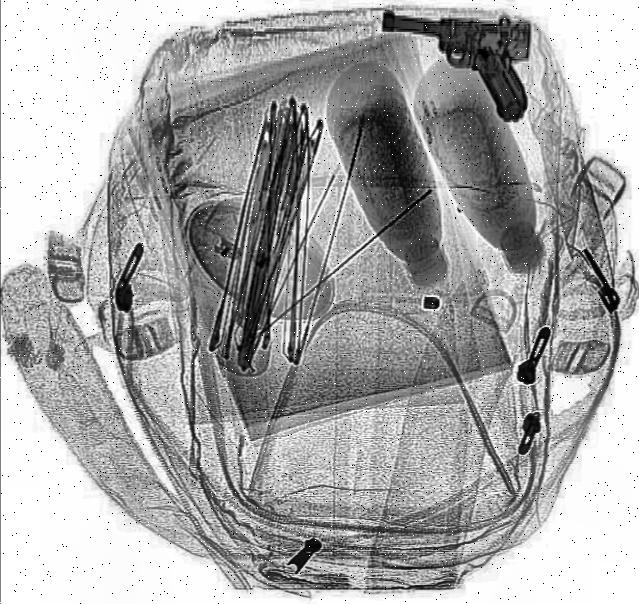Gun: (375, 8, 533, 122)
